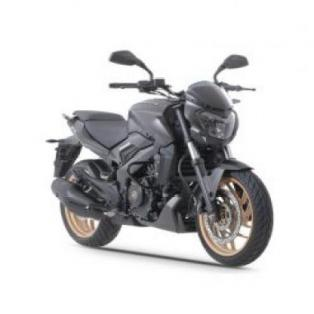Motocicleta: (39, 36, 280, 273)
